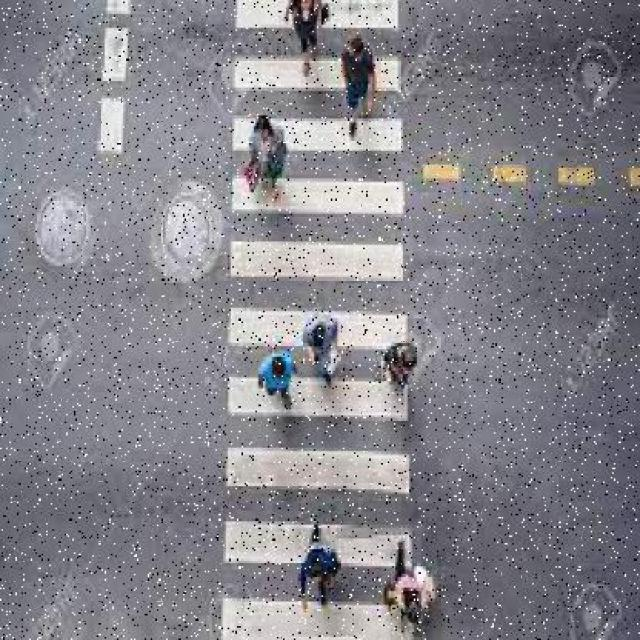crosswalk: (223, 0, 416, 640)
